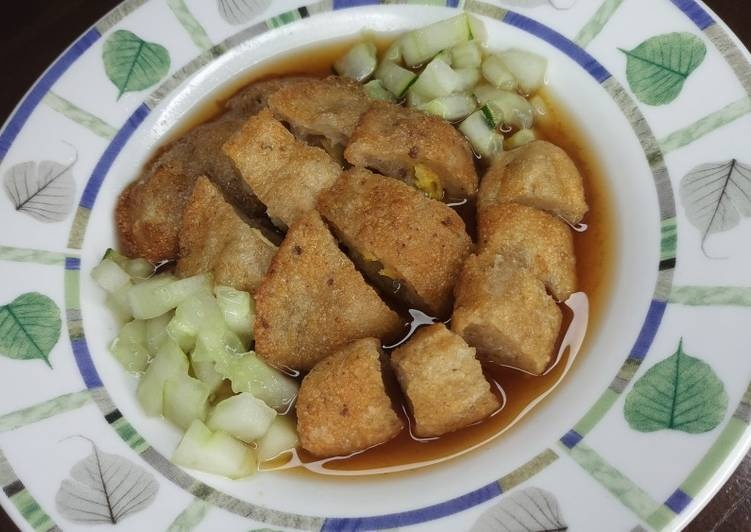pempek: (112, 73, 591, 451)
